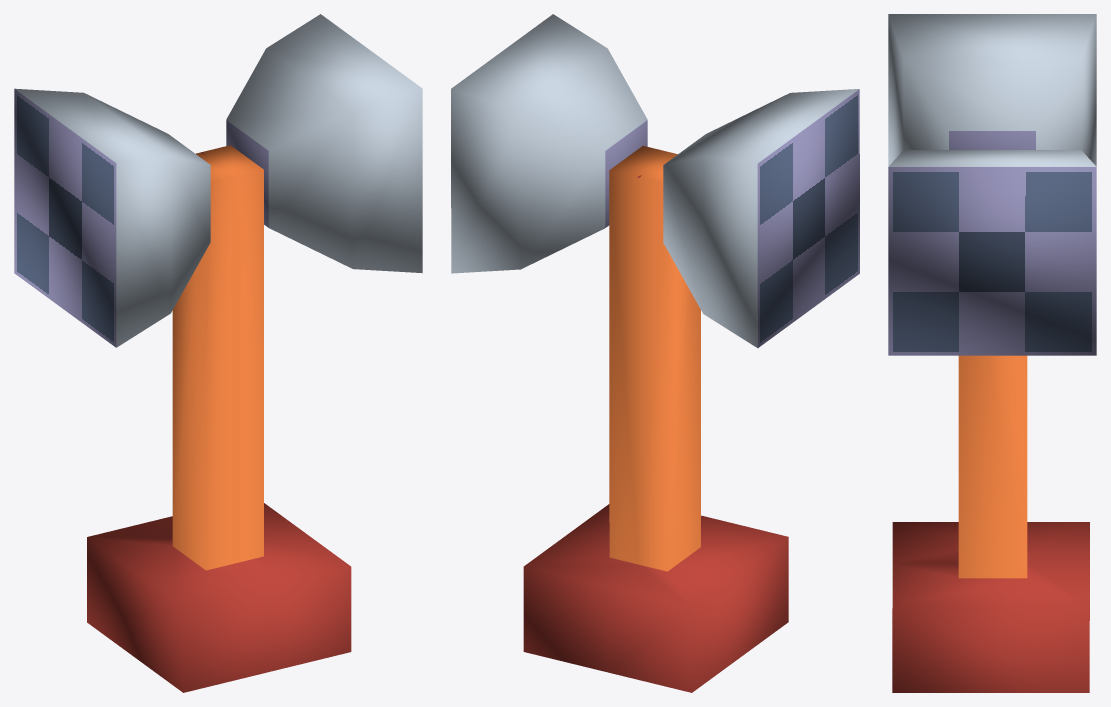
Rendered from radar.fbx.
The picture shows the model from 3 angles, left to right: view 1: azimuth 30°, elevation 25°; view 2: azimuth 150°, elevation 25°; view 3: azimuth 270°, elevation 25°; orthographic projection. The views are drawn at different scales.
Visible parts, largest first — view 1: radar.001, radar; view 2: radar.001, radar; view 3: radar.001, radar.
Boxes of the visible parts, x1,y1,x2,y2 form: radar.001: [14, 14, 422, 347]; radar: [87, 145, 351, 692]; radar.001: [451, 14, 859, 348]; radar: [523, 145, 788, 692]; radar.001: [888, 14, 1096, 355]; radar: [892, 355, 1089, 692].
Size of the model in its own units: 104 by 178 by 59.98.
Materials: 1 (1 with a texture image).
